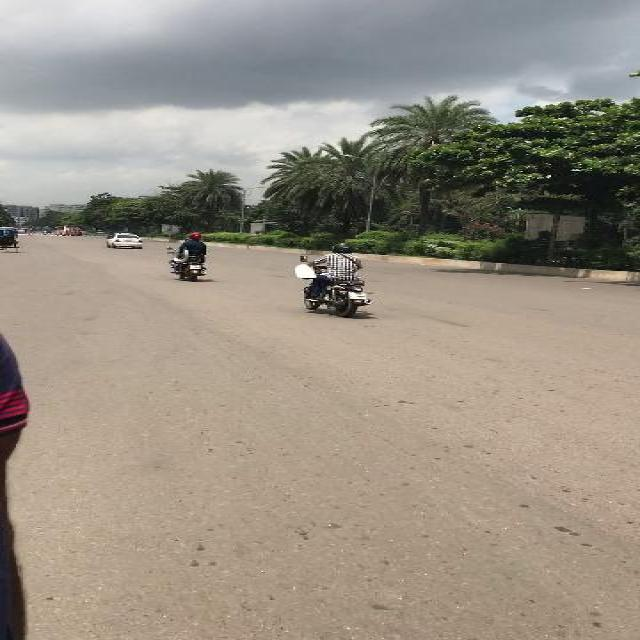bus: (54, 224, 78, 236)
car: (103, 232, 142, 250)
motorbike: (292, 242, 372, 316), (164, 230, 209, 282)
rickshaw: (1, 226, 20, 254)
